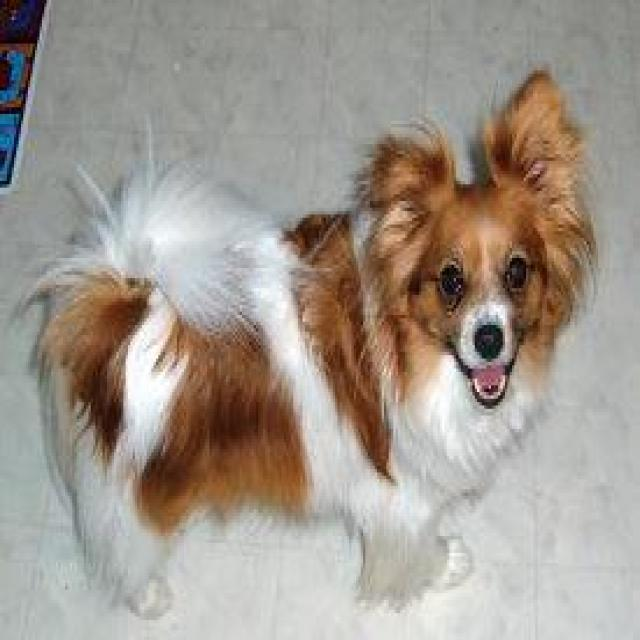papillon: (37, 70, 596, 630)
